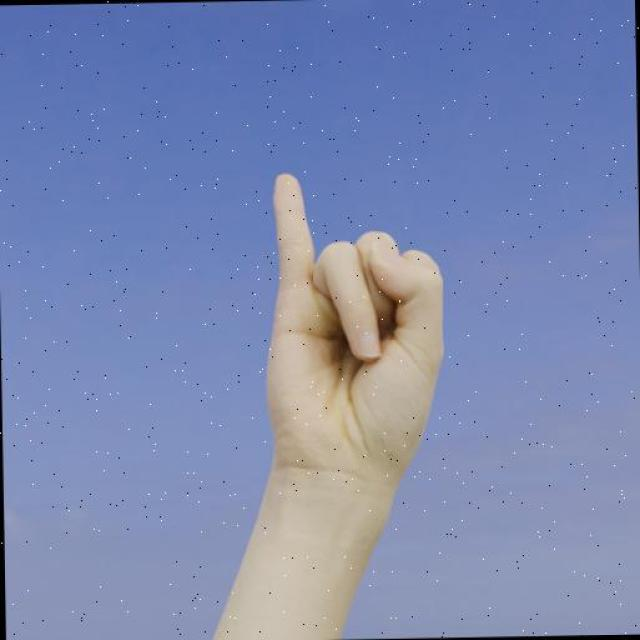I: (195, 135, 484, 556)
